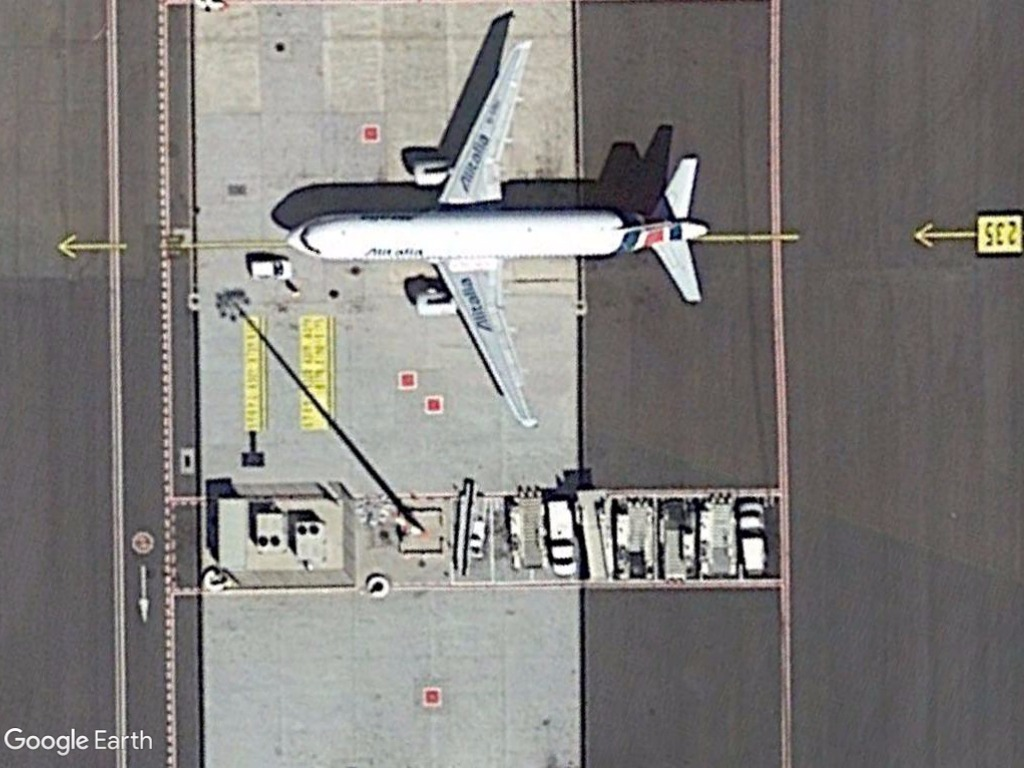airliner: (280, 30, 716, 439)
other: (733, 493, 773, 582), (543, 493, 581, 579)
van: (242, 253, 296, 283)
